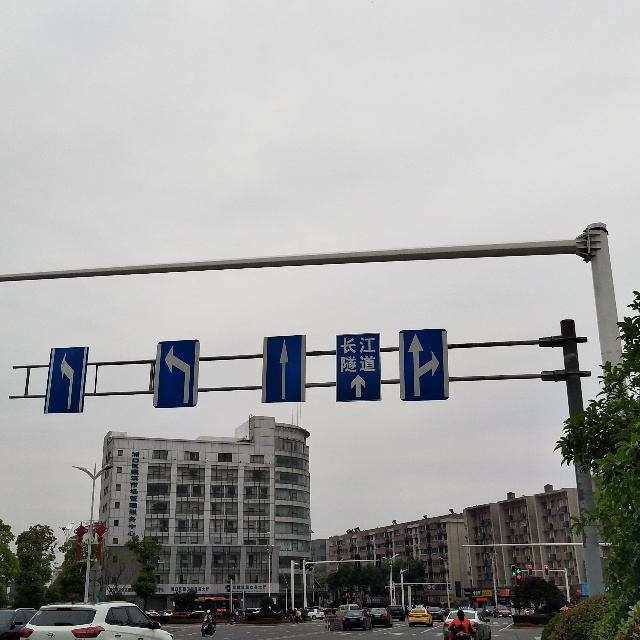left: (151, 342, 193, 406), (57, 355, 84, 405)
straight: (273, 330, 294, 397)
